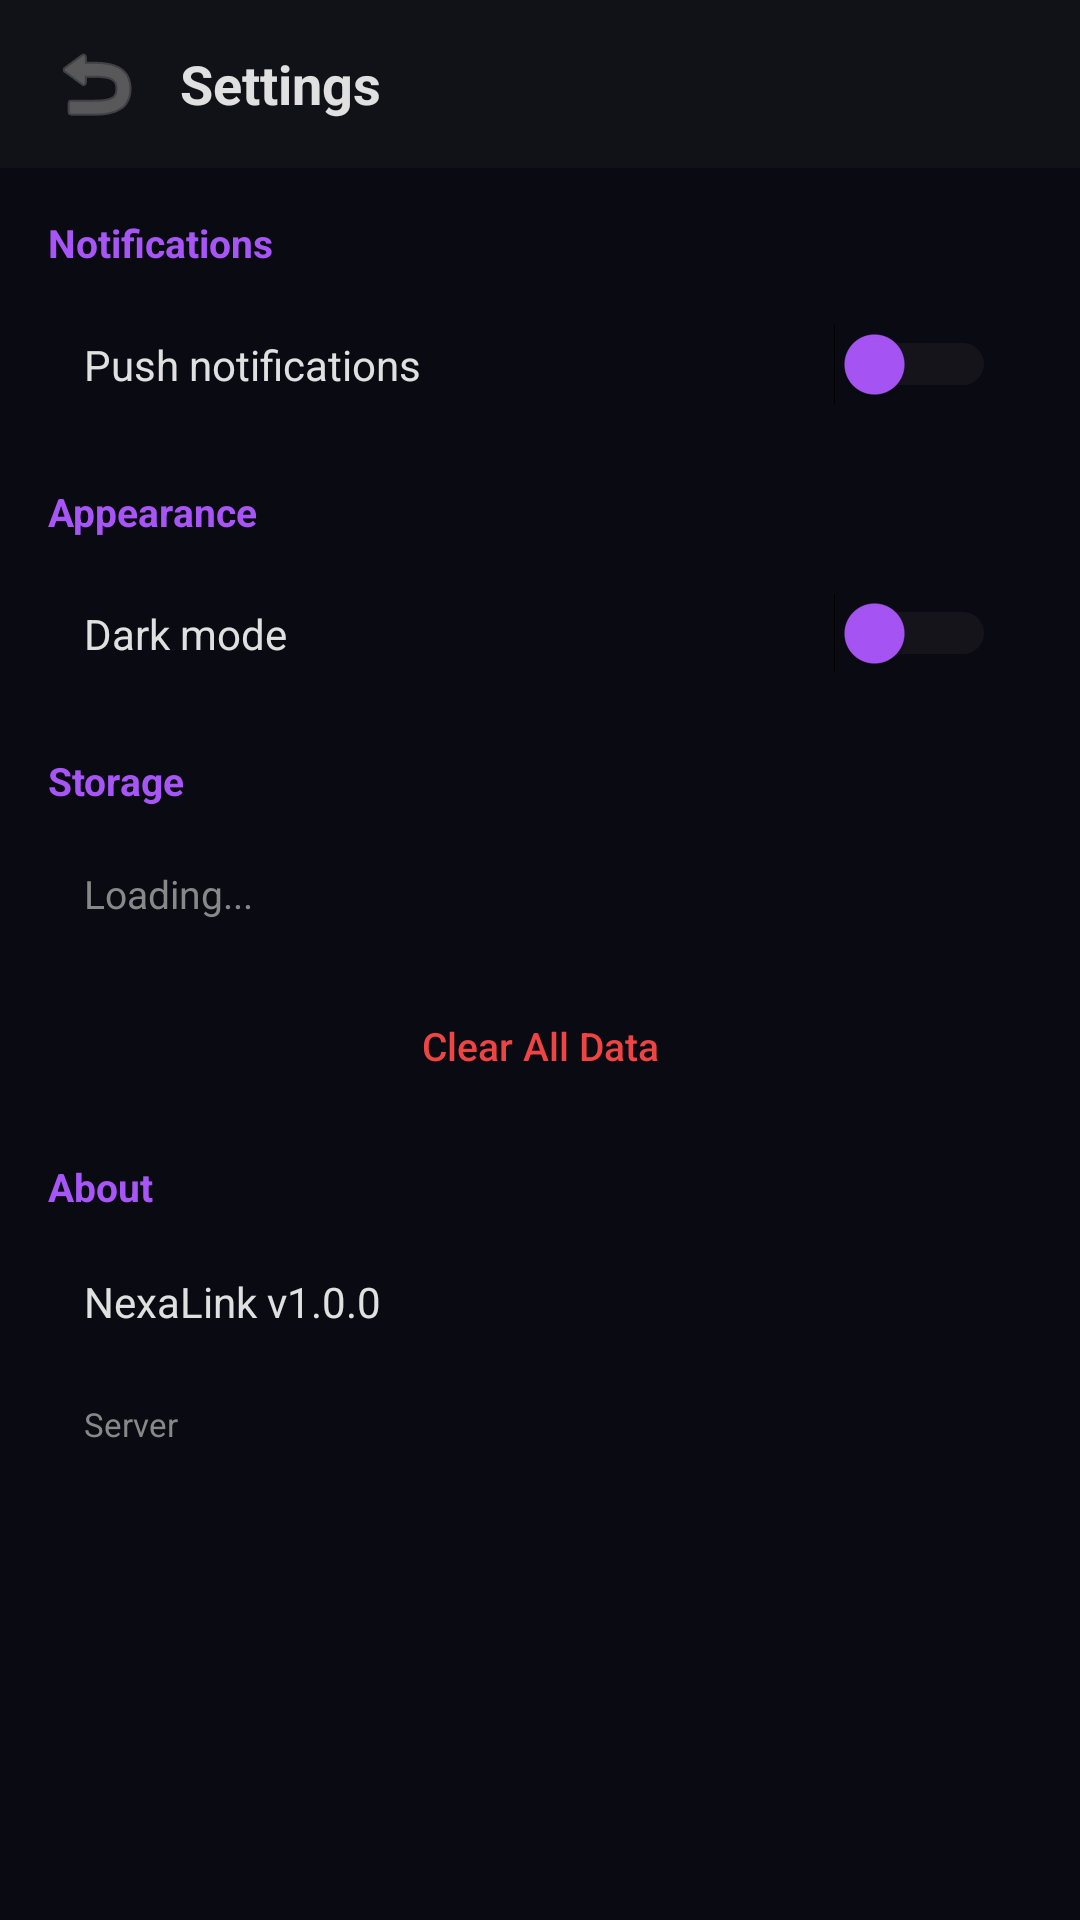

Icon click points for this 1080 x 1920 phone screenshot, format [x,y]:
Back: [97,85]
